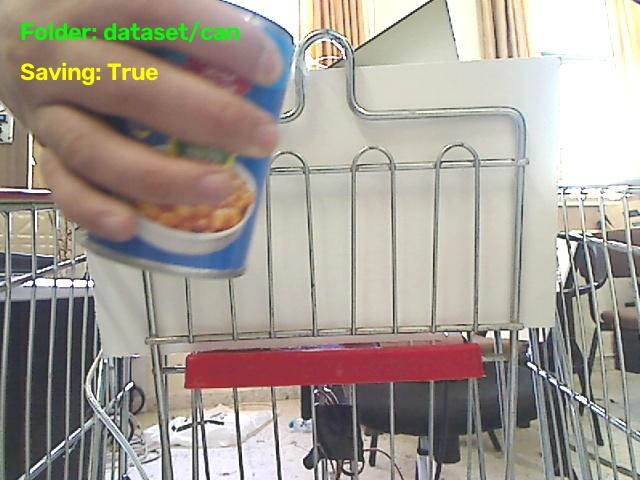can: (87, 119, 269, 277), (152, 7, 293, 119)
